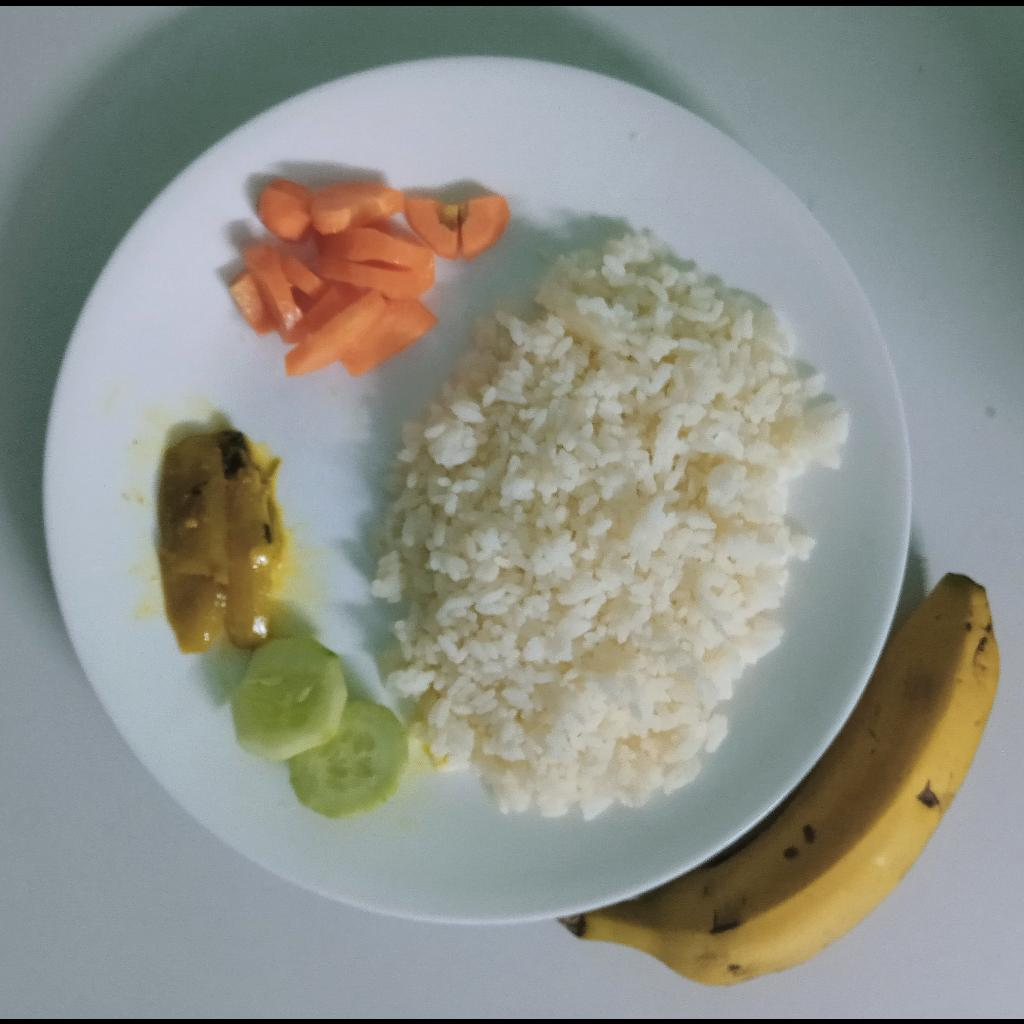banana: (554, 571, 1000, 988)
carrot: (228, 177, 511, 379)
cucumber: (232, 637, 409, 816)
potol: (156, 429, 289, 655)
rice: (363, 225, 852, 817)
